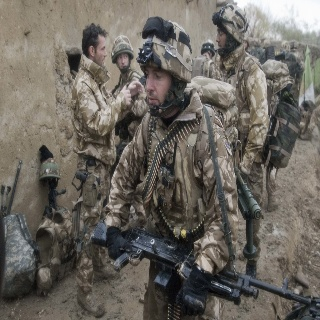rifle: (90, 220, 314, 315)
